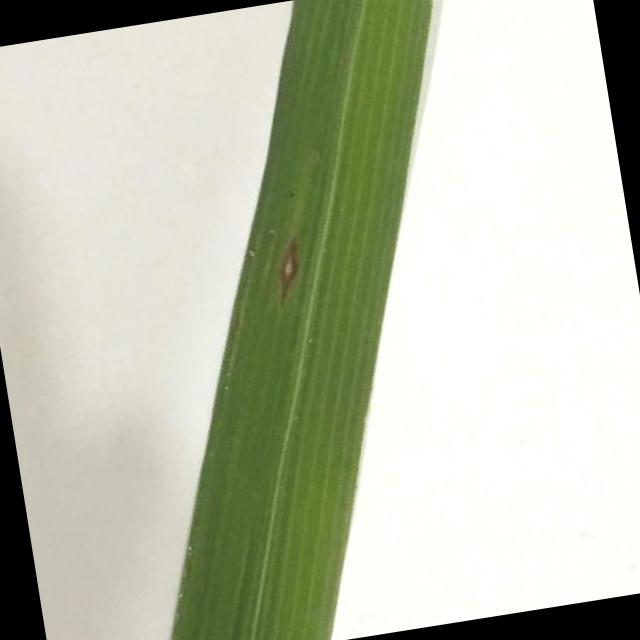Rice_Blast: (258, 198, 316, 317)
